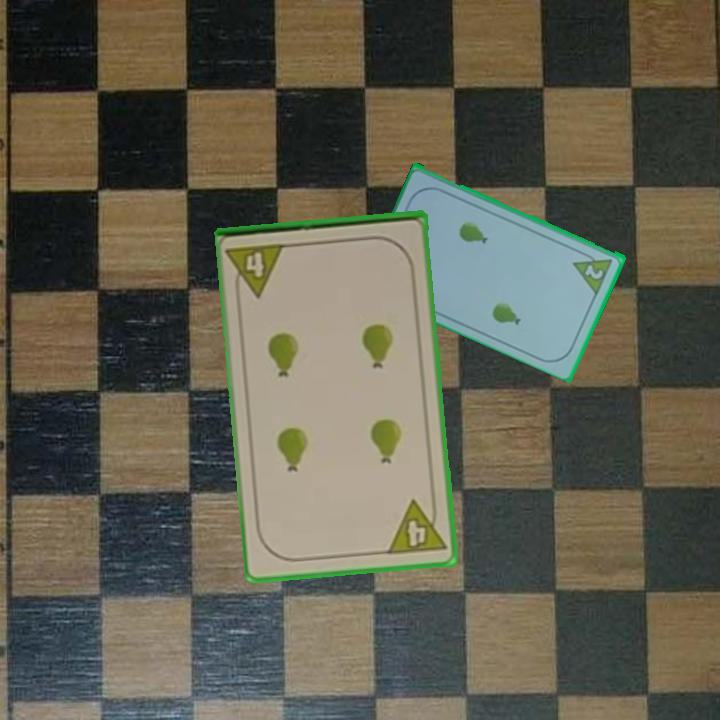2p: (582, 261, 607, 282)
4p: (384, 495, 449, 558), (224, 240, 289, 301)
